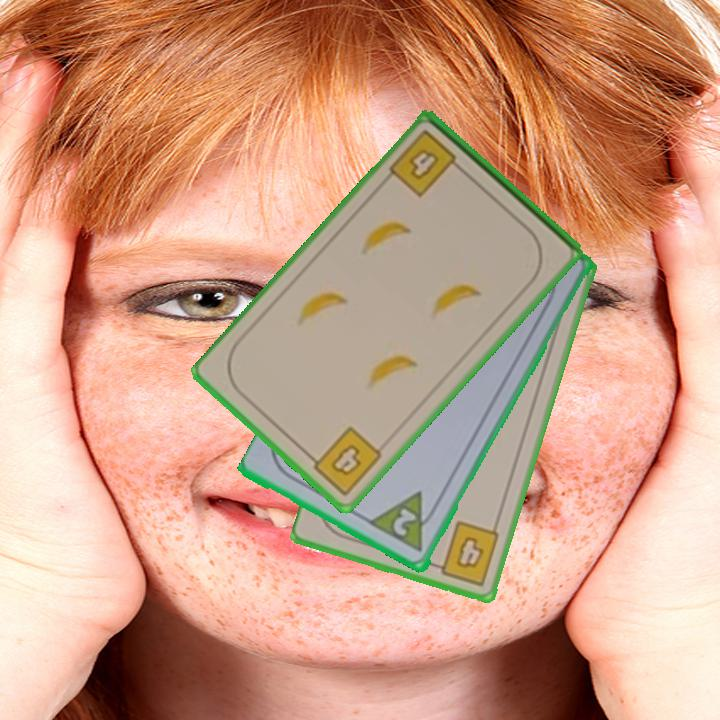2p: (389, 505, 421, 540)
4b: (303, 423, 385, 499), (385, 126, 468, 201), (428, 517, 503, 589)
